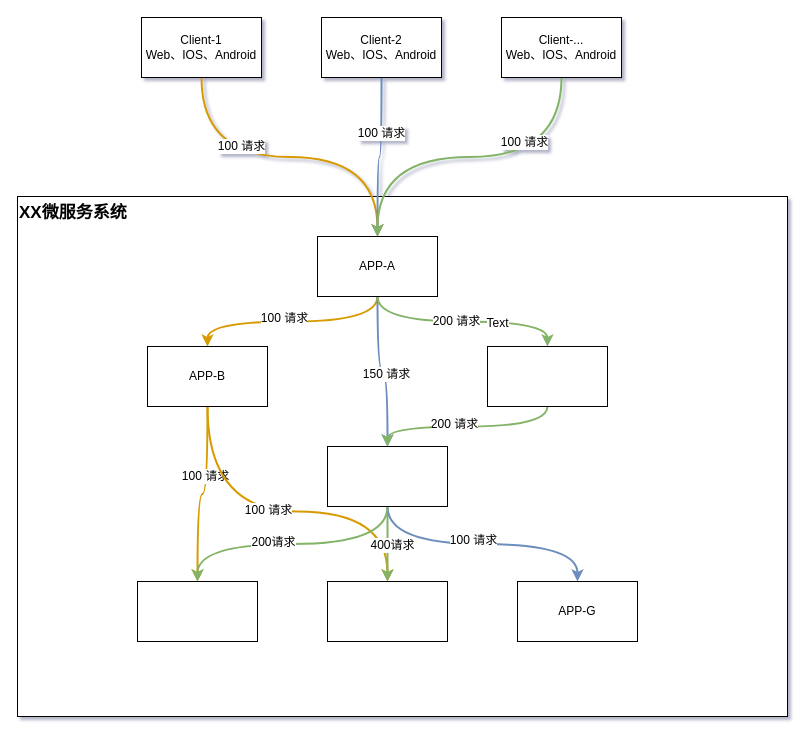
The diagram is 811 pixels wide and 740 high, and some of its shapes have lost their labels. The centre of each missing label's shape, as x and y in pixels:
APP-C: the point at 547,376
APP-D: the point at 387,476
APP-E: the point at 197,611
APP-F: the point at 387,611
